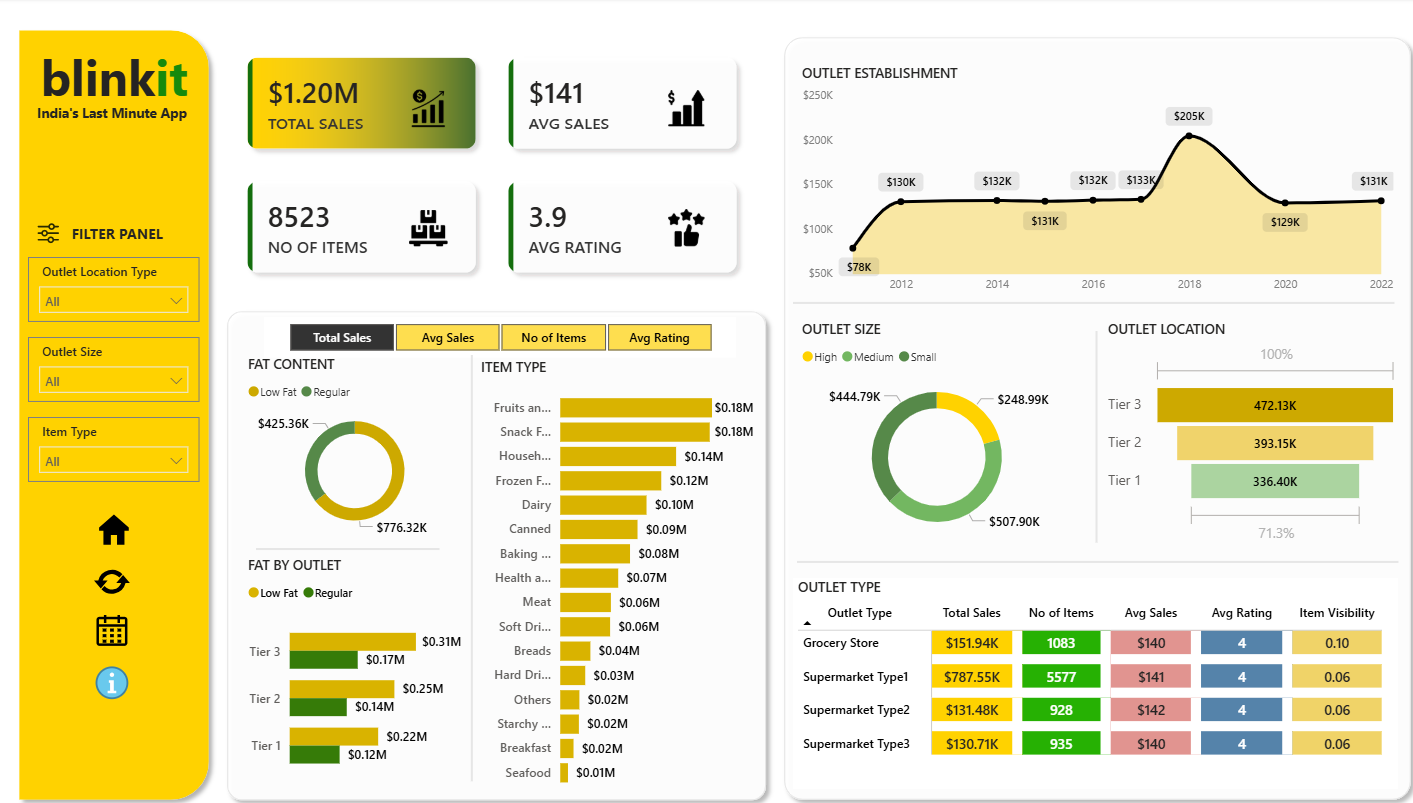

This screenshot's page, from the dashboard's own definition file:
{"tool":"powerbi","page":{"name":"Page 1","canvas":[1400,800],"ordinal":0},"visuals":[{"type":"shape","box":[10.8,22.7,204.9,776.4],"z":0},{"type":"textbox","box":[35.1,39.4,156.4,75.5],"z":1000},{"type":"textbox","box":[31.9,100,159.6,28.7],"z":2000},{"type":"cardVisual","fields":{"Data":["BlinkIT Grocery Data.Total Sales","BlinkIT Grocery Data.Avg Sales","BlinkIT Grocery Data.No of Items","BlinkIT Grocery Data.Avg Rating"]},"box":[216,29.8,540.4,270.2],"z":3000},{"type":"shape","box":[216,300,548.9,500],"z":4000},{"type":"donutChart","title":"FAT CONTENT","fields":{"Y":["BlinkIT Grocery Data.Total Sales"],"Category":["BlinkIT Grocery Data.Item Fat Content"]},"box":[240.4,352.1,220.2,184],"z":5000},{"type":"slicer","fields":{"Values":["Metrics.Metrics"]},"box":[260.6,313.8,464.9,40.4],"z":6000},{"type":"clusteredBarChart","title":"FAT BY OUTLET","fields":{"Y":["BlinkIT Grocery Data.Total Sales"],"Category":["BlinkIT Grocery Data.Outlet Location Type"],"Series":["BlinkIT Grocery Data.Item Fat Content"]},"box":[240.4,550,220.2,229.8],"z":7000},{"type":"shape","box":[253.2,536.2,180.9,13.8],"z":8000},{"type":"shape","box":[460.6,352.1,9.6,420.2],"z":9000},{"type":"barChart","title":"ITEM TYPE","fields":{"Y":["BlinkIT Grocery Data.Total Sales"],"Category":["BlinkIT Grocery Data.Item Type"]},"box":[470.2,354.3,278.7,433],"z":10000},{"type":"shape","box":[764.5,29.6,635.5,769.5],"z":11000},{"type":"lineChart","title":"OUTLET ESTABLISHMENT","fields":{"Y":["BlinkIT Grocery Data.Total Sales"],"Category":["BlinkIT Grocery Data.Outlet Establishment Year"]},"box":[786.2,64.9,592.6,235.1],"z":12000},{"type":"shape","box":[781.9,287.2,592.6,25.5],"z":13000},{"type":"donutChart","title":"OUTLET SIZE","fields":{"Y":["BlinkIT Grocery Data.Total Sales"],"Series":["BlinkIT Grocery Data.Outlet Size"]},"box":[786.2,317,275.5,225.5],"z":14000},{"type":"shape","box":[1074.5,327.7,12.8,208.5],"z":15000},{"type":"funnel","title":"OUTLET LOCATION","fields":{"Y":["Sum(BlinkIT Grocery Data.Sales)"],"Category":["BlinkIT Grocery Data.Outlet Location Type"]},"box":[1087.2,317,295.7,225.5],"z":16000},{"type":"shape","box":[786.2,542.6,592.6,25.5],"z":17000},{"type":"pivotTable","title":"OUTLET TYPE","fields":{"Rows":["BlinkIT Grocery Data.Outlet Type"],"Values":["BlinkIT Grocery Data.Total Sales","BlinkIT Grocery Data.No of Items","BlinkIT Grocery Data.Avg Sales","BlinkIT Grocery Data.Avg Rating","Avg(BlinkIT Grocery Data.Item Visibility)"]},"box":[782.3,571.4,596.1,207.9],"z":18000},{"type":"slicer","fields":{"Values":["BlinkIT Grocery Data.Outlet Location Type"]},"box":[28.7,255.3,169.1,63.8],"z":19000},{"type":"slicer","fields":{"Values":["BlinkIT Grocery Data.Outlet Size"]},"box":[28.7,334,169.1,63.8],"z":20000},{"type":"slicer","fields":{"Values":["BlinkIT Grocery Data.Item Type"]},"box":[28.7,412.8,169.1,63.8],"z":21000},{"type":"textbox","box":[36.7,218,160.3,29.3],"z":21001},{"type":"image","box":[84,503.2,58.5,39.4],"z":21002},{"type":"image","box":[81.9,555.3,58.5,39.4],"z":21003},{"type":"image","box":[81.9,603.2,58.5,39.4],"z":21004},{"type":"image","box":[81.9,655.3,58.5,39.4],"z":21005},{"type":"image","box":[28.3,219,39.8,26.2],"z":21006},{"type":"image","box":[400.3,90.1,46.1,37.7],"z":21007},{"type":"image","box":[653.9,207.5,46.1,36.7],"z":21008},{"type":"image","box":[400.3,207.5,46.1,37.7],"z":21009},{"type":"image","box":[653.9,90.1,46.1,37.7],"z":21010}]}

Visuals, with their boxes in screenshot pixels (x1, y1, x2, y2), scaled from the page's 1400x800 canvas onto the 1413x803 screenshot:
shape: 11,23,218,802
textbox: 35,40,193,115
textbox: 32,100,193,129
cardVisual - BlinkIT Grocery Data.Total Sales x BlinkIT Grocery Data.Avg Sales: 218,30,763,301
shape: 218,301,772,802
"FAT CONTENT" donutChart: 243,353,465,538
slicer - Metrics.Metrics: 263,315,732,356
"FAT BY OUTLET" clusteredBarChart: 243,552,465,783
shape: 256,538,438,552
shape: 465,353,475,775
"ITEM TYPE" barChart: 475,356,756,790
shape: 772,30,1412,802
"OUTLET ESTABLISHMENT" lineChart: 794,65,1392,301
shape: 789,288,1387,314
"OUTLET SIZE" donutChart: 794,318,1072,545
shape: 1084,329,1097,538
"OUTLET LOCATION" funnel: 1097,318,1396,545
shape: 794,545,1392,570
"OUTLET TYPE" pivotTable: 790,574,1391,782
slicer - BlinkIT Grocery Data.Outlet Location Type: 29,256,200,320
slicer - BlinkIT Grocery Data.Outlet Size: 29,335,200,399
slicer - BlinkIT Grocery Data.Item Type: 29,414,200,478
textbox: 37,219,199,248
image: 85,505,144,545
image: 83,557,142,597
image: 83,605,142,645
image: 83,658,142,697
image: 29,220,69,246
image: 404,90,451,128
image: 660,208,706,245
image: 404,208,451,246
image: 660,90,706,128
